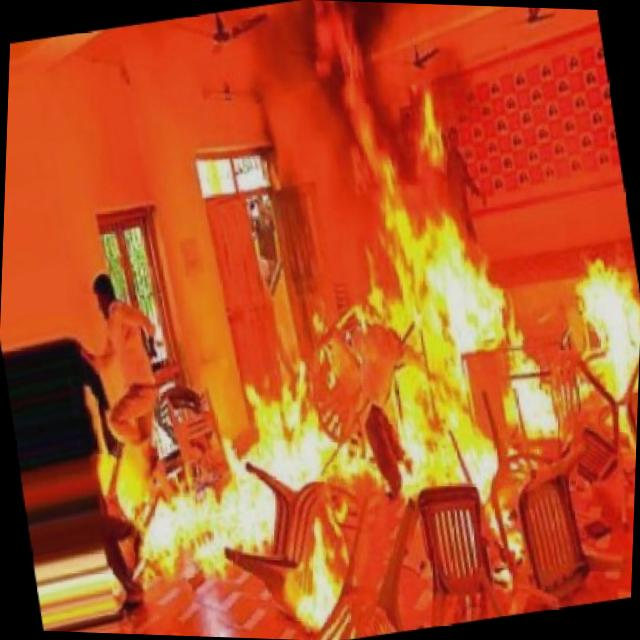fire: (181, 212, 640, 601)
